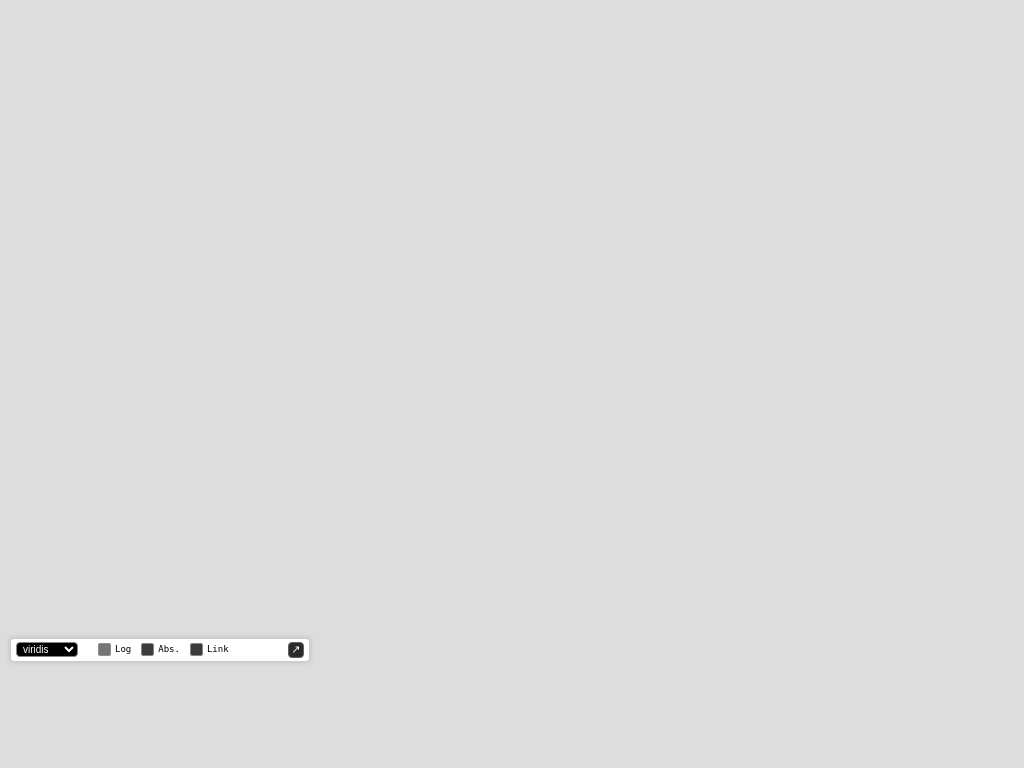
dialog: invalid use › clearing the Maximum value disables submission with a title
Step 1. Click the button with class "dialog-popout-btn" → (296, 650), box [288,642,304,658]
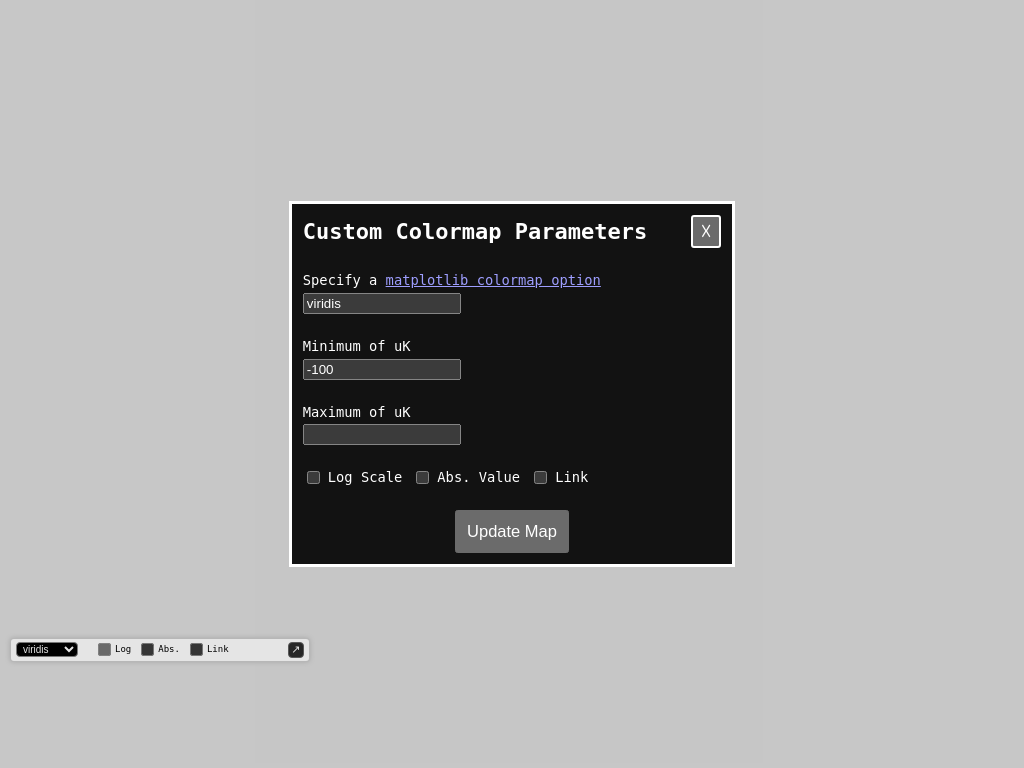
Step 2. Clear the number field labelled "Maximum of uK" → (382, 435), box [303,424,461,445]
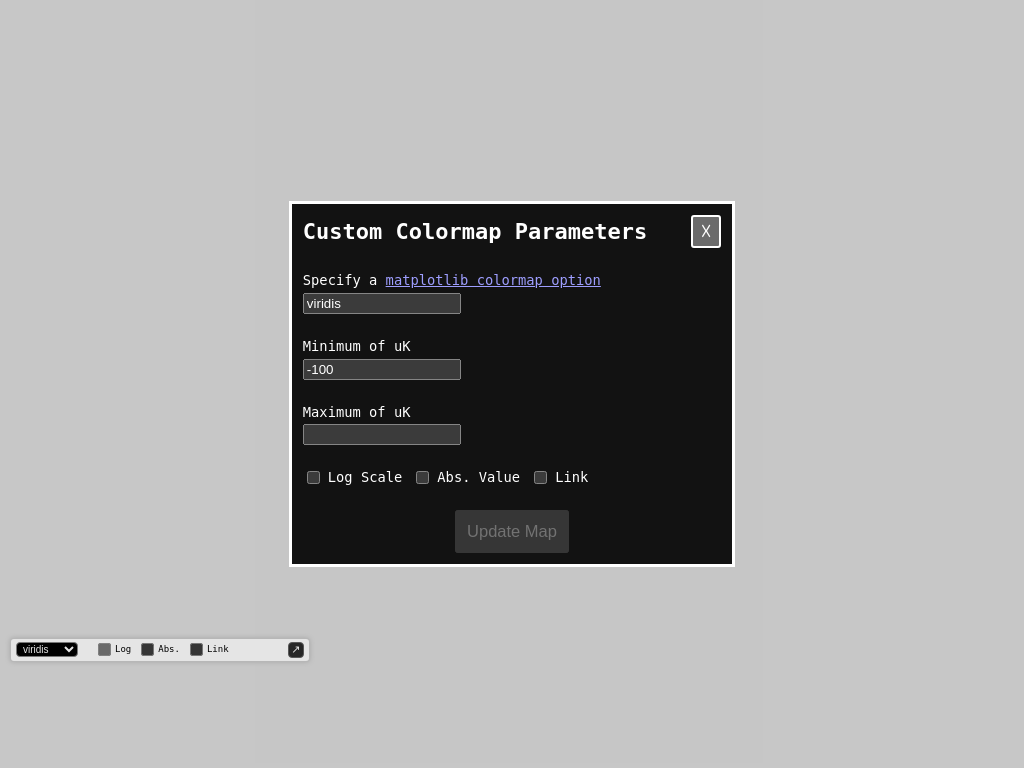
Expected: the submit button is disabled, [455,510,569,553]
